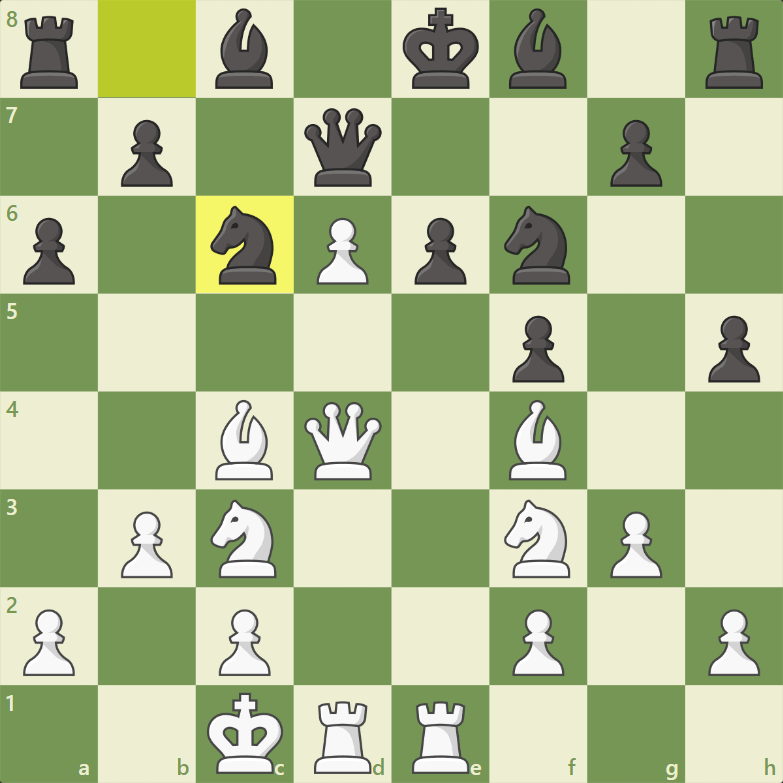B: (214, 396, 276, 487), (505, 397, 570, 483)
K: (204, 689, 287, 778)
N: (209, 498, 280, 583), (502, 497, 573, 581)
P: (117, 509, 177, 583), (20, 606, 79, 679), (215, 607, 274, 680), (509, 607, 568, 680), (705, 607, 764, 680), (608, 509, 667, 582), (314, 216, 370, 287)
Q: (301, 397, 383, 484)
R: (309, 698, 376, 778), (408, 699, 474, 778)
b: (508, 6, 572, 93), (211, 5, 275, 92)
k: (400, 5, 482, 92)
n: (207, 203, 281, 289), (502, 203, 575, 288)
p: (507, 312, 570, 388), (115, 117, 177, 193), (606, 117, 665, 192), (705, 314, 764, 388), (412, 216, 470, 289), (21, 214, 77, 289)
q: (302, 106, 384, 192)
r: (703, 12, 767, 94), (18, 13, 81, 92)
